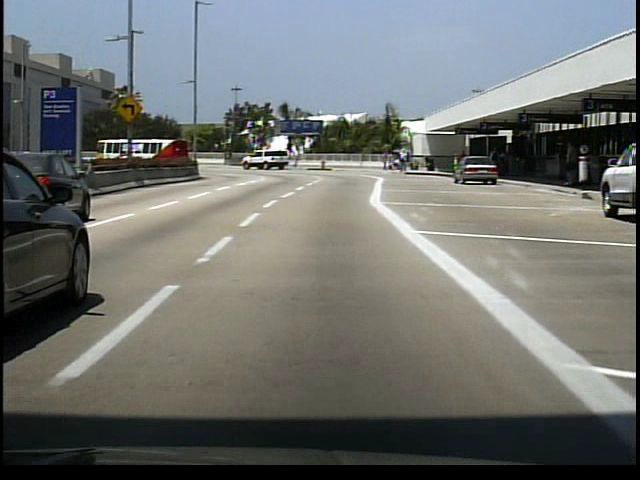person: (561, 135, 584, 190), (489, 149, 505, 183), (400, 146, 410, 175), (382, 148, 390, 172)
